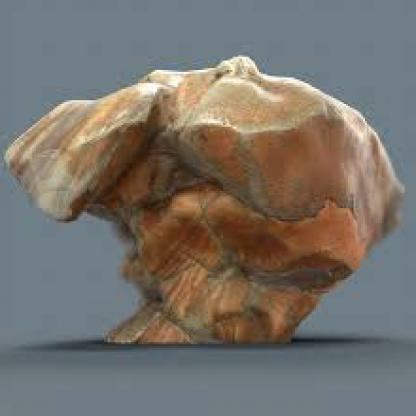Metamorphic_Marble: (0, 38, 407, 357)
